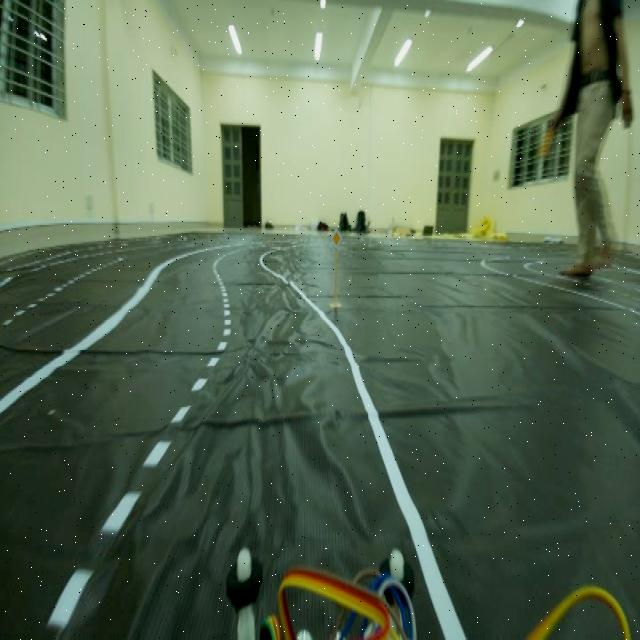priority: (328, 224, 344, 253)
